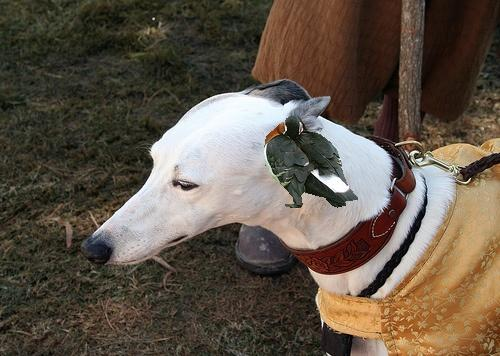tampered: (265, 116, 358, 208)
